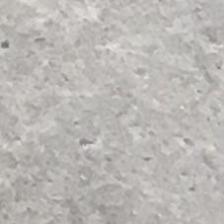Non_Crack: (11, 20, 214, 210)
